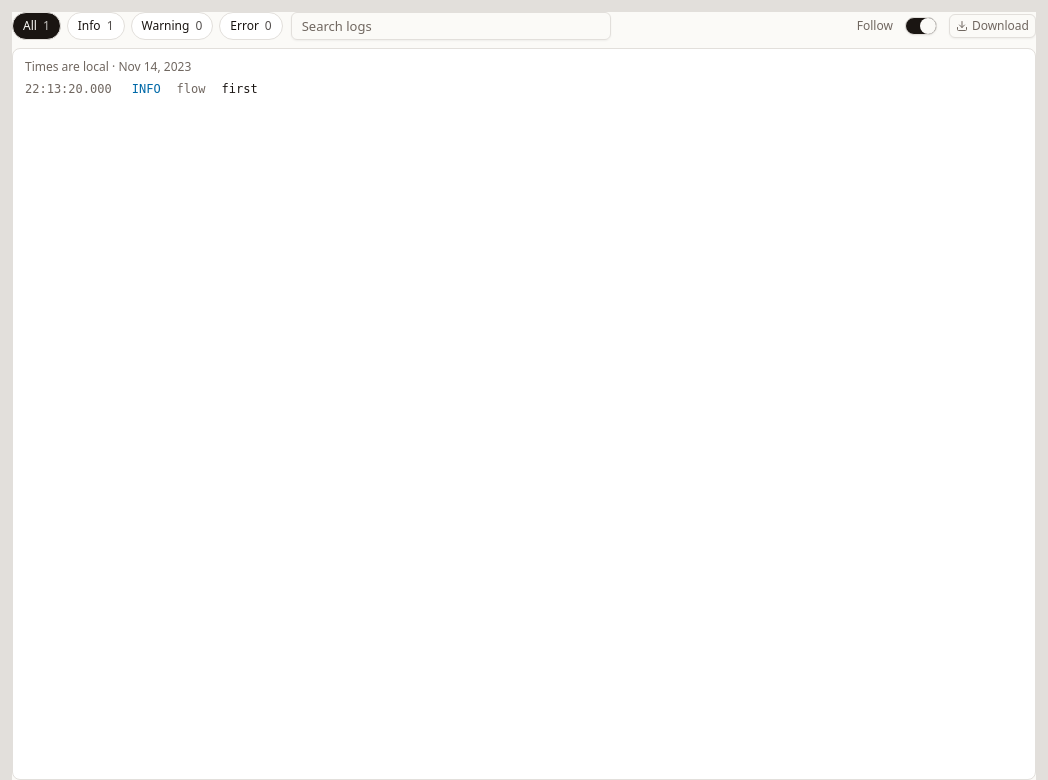
Scenario: turning follow off leaves the view where it is
Expected: the text "first" is shown, [214,79,1035,99]
Step 1. Click the switch named "Follow" → x=921, y=26, box [905,17,937,35]
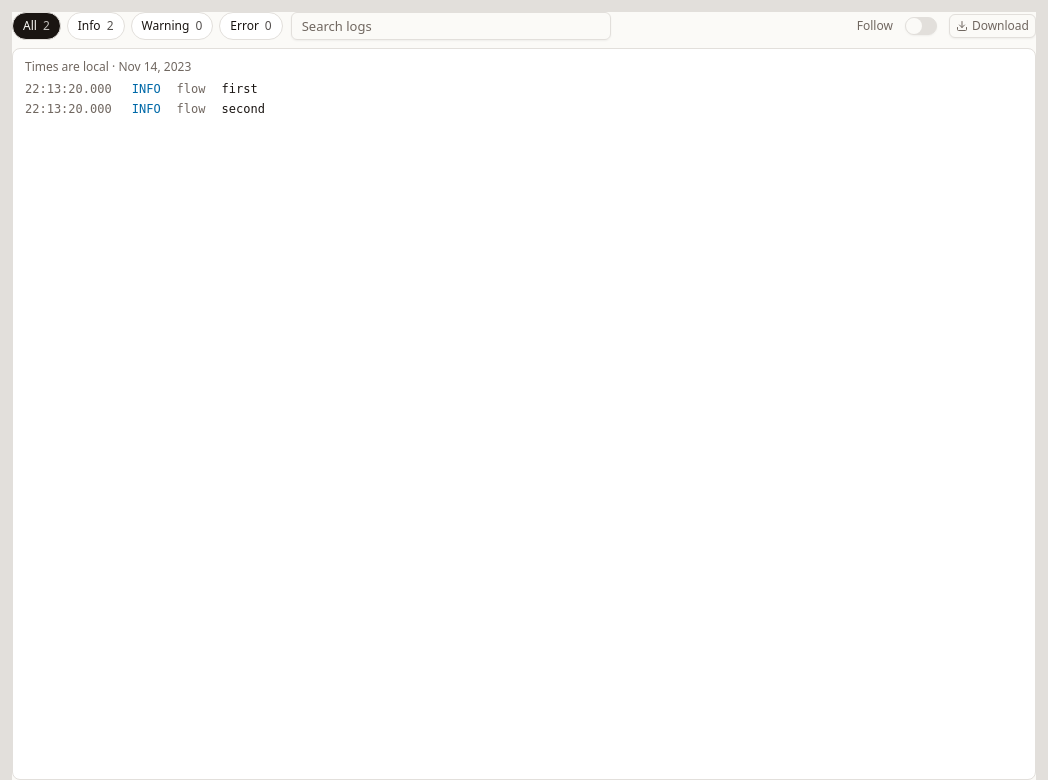
Expected: the text "second" is shown, [214,99,1035,119]
